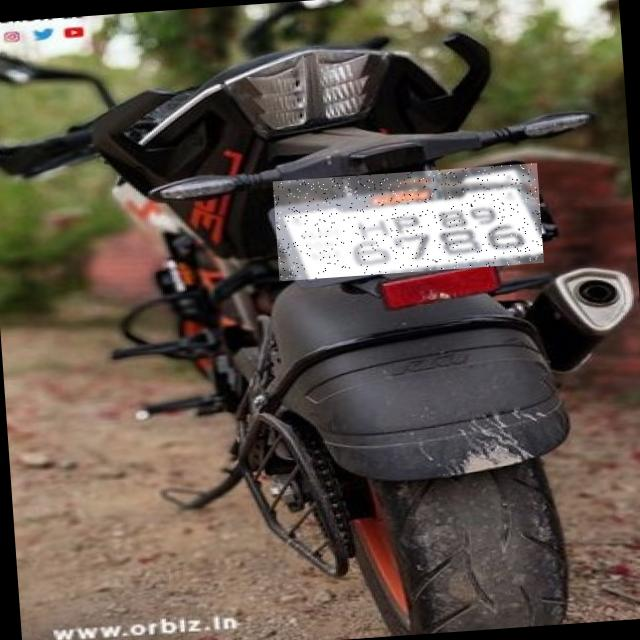Plate: (274, 164, 545, 282)
